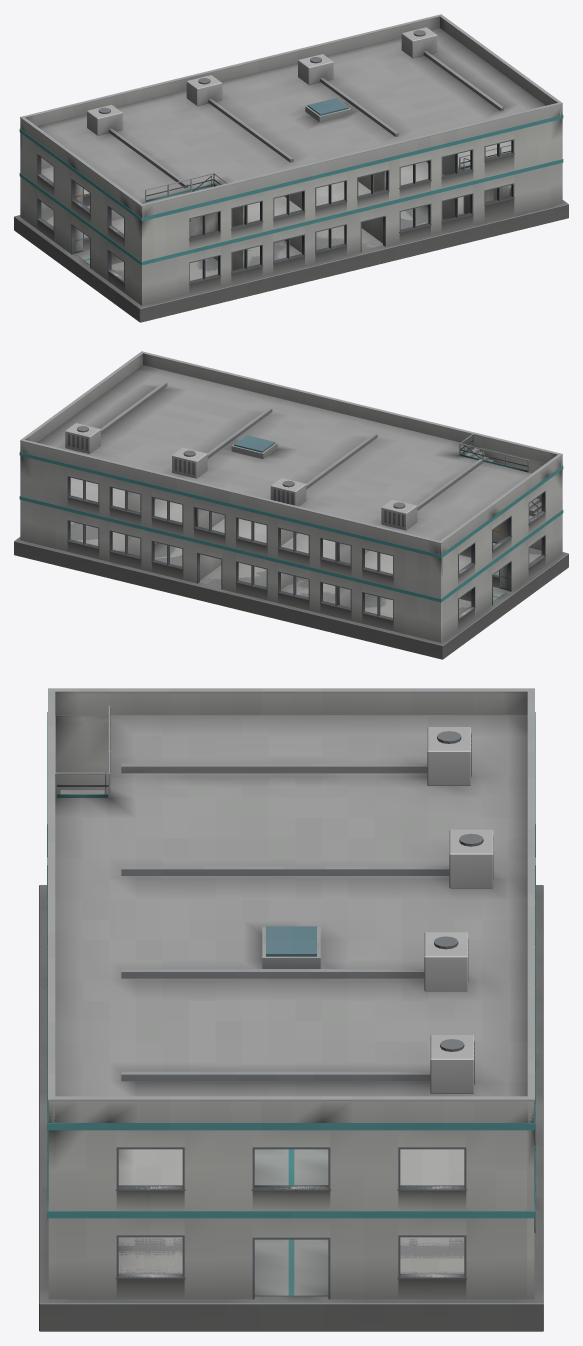
The model's file is lab_big.glb.
3 views of the same model, one above another, from view 1: azimuth 30°, elevation 25°; view 2: azimuth 150°, elevation 25°; view 3: azimuth 270°, elevation 25° (orthographic). The views are drawn at different scales.
Visible parts, largest first — view 1: lab_big_1, lab_big_0; view 2: lab_big_1, lab_big_0; view 3: lab_big_1, lab_big_0.
Part boxes in pixels (x1,y1,x2,y2): lab_big_1: [14, 17, 567, 322]; lab_big_0: [14, 14, 568, 322]; lab_big_1: [14, 351, 568, 659]; lab_big_0: [14, 351, 568, 659]; lab_big_1: [39, 688, 543, 1331]; lab_big_0: [39, 688, 543, 1331].
Size of the model in its own units: 40.8 by 11.02 by 20.8.
